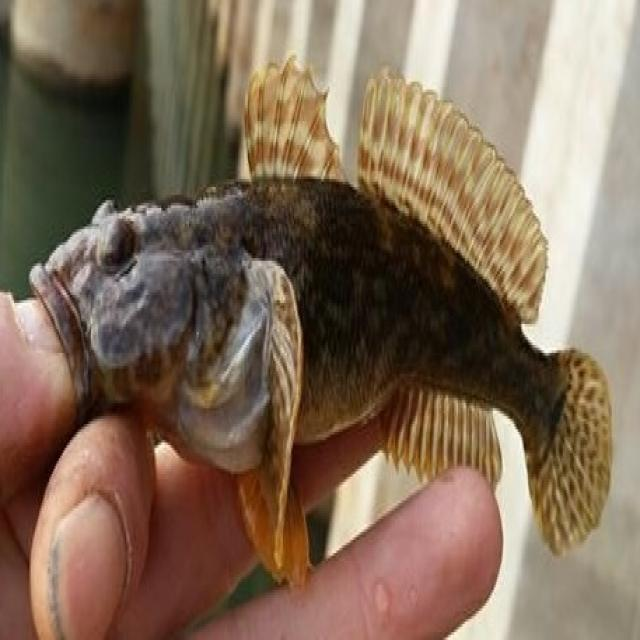Goby: (2, 23, 620, 586)
